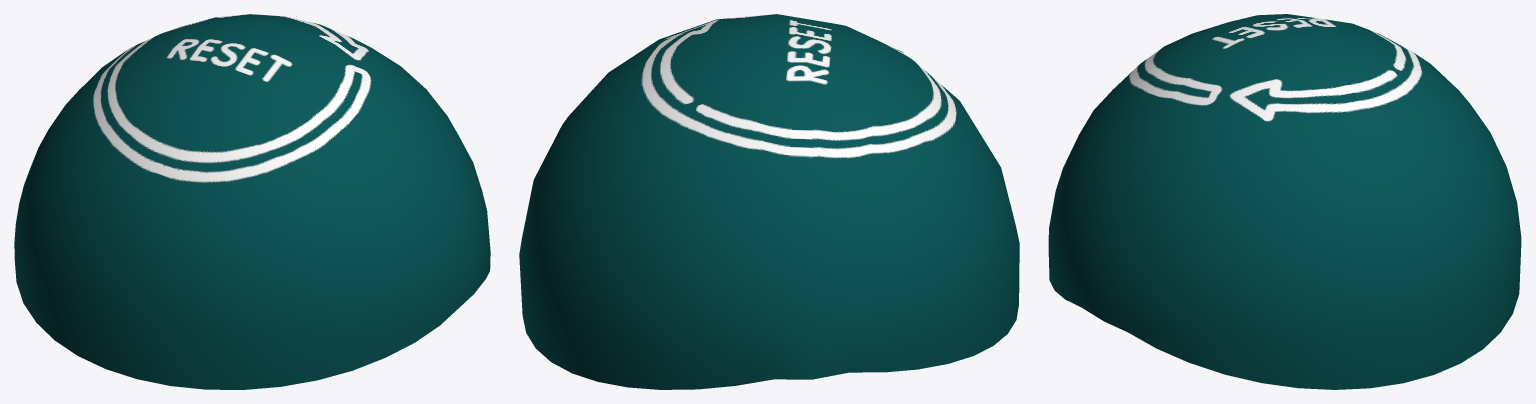
File: Setting_Button_Reset.fbx
3 renders of one model, left to right at view 1: azimuth 30°, elevation 25°; view 2: azimuth 150°, elevation 25°; view 3: azimuth 270°, elevation 25°, orthographic. The views are drawn at different scales.
Parts seen in each view (by area): view 1: pSphere53; view 2: pSphere53; view 3: pSphere53.
Part boxes in pixels (x1,y1,x2,y2): pSphere53: [14, 14, 490, 389]; pSphere53: [519, 14, 1019, 389]; pSphere53: [1048, 14, 1521, 389].
Size of the model in its own units: 5.63 by 3.44 by 5.63.
Materials: 1 (1 with a texture image).
